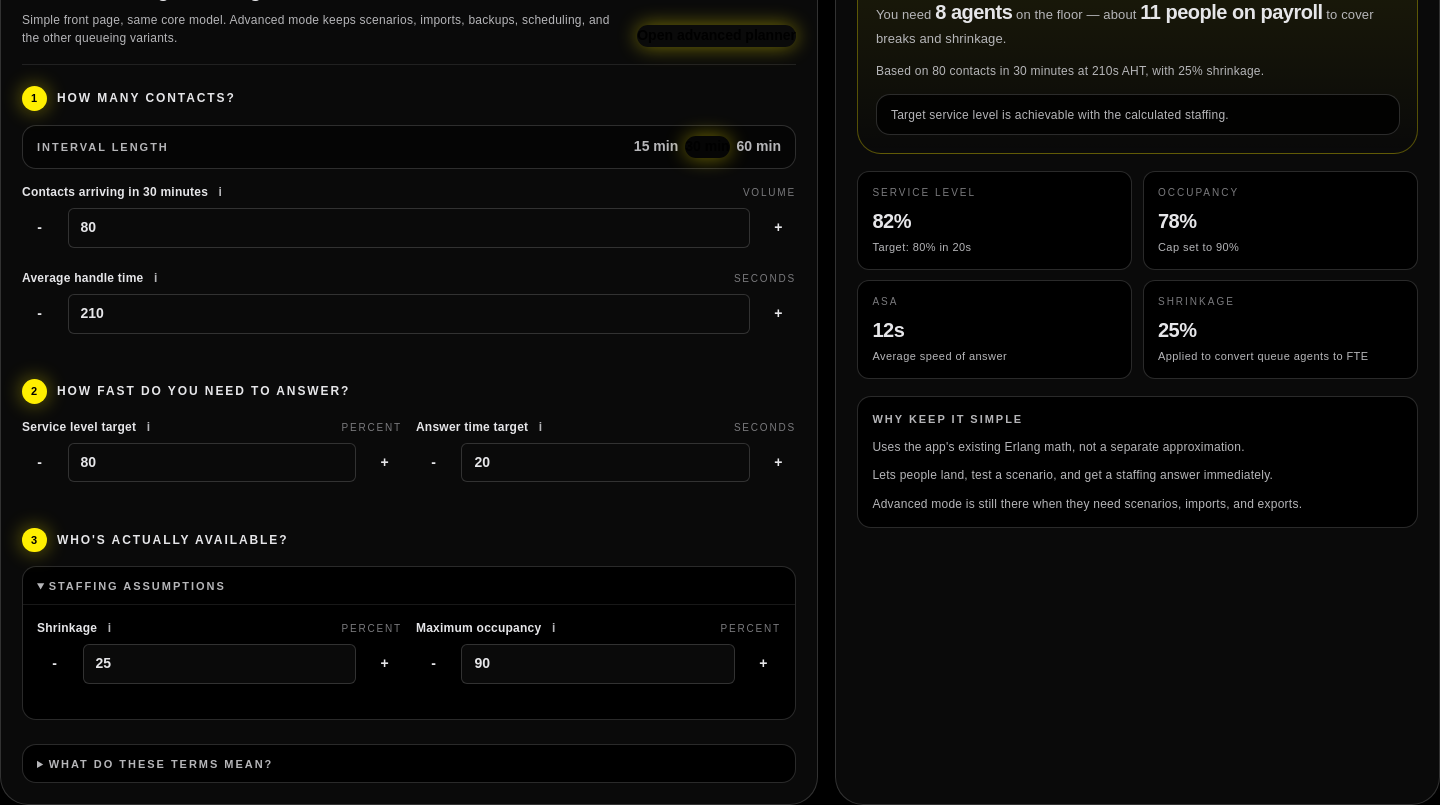
SimpleLanding — beginner affordances › InfoTip toggles a tooltip on click
The width and height of the screenshot is (1440, 805).
(page scrolled)
Click the button named "What is Shrinkage".
click(109, 628)  # box [102,621,116,635]
(page scrolled)
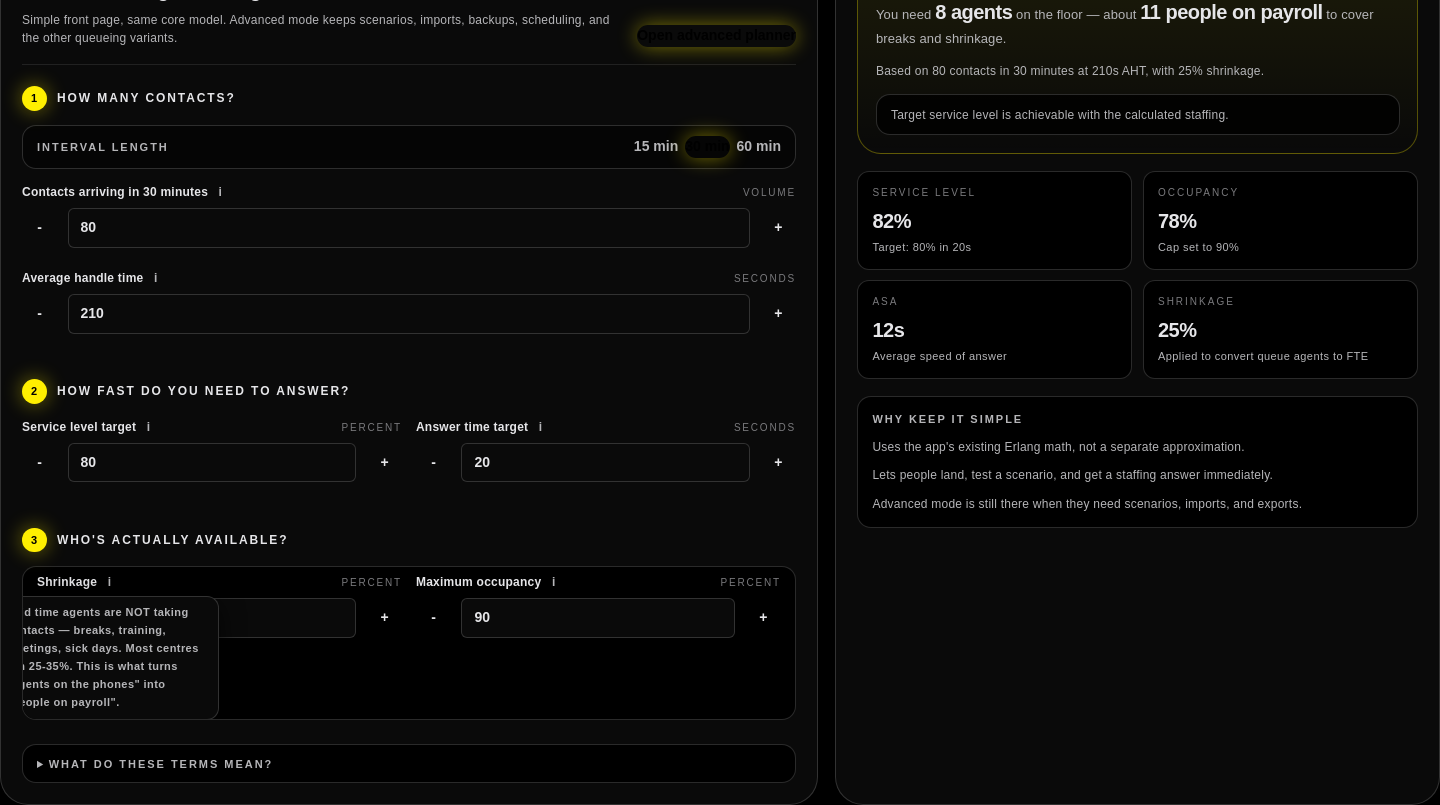
Check: the tooltip is shown, box [22,596,219,720]
Check: the tooltip shows "breaks, training", box [22,606,199,708]
